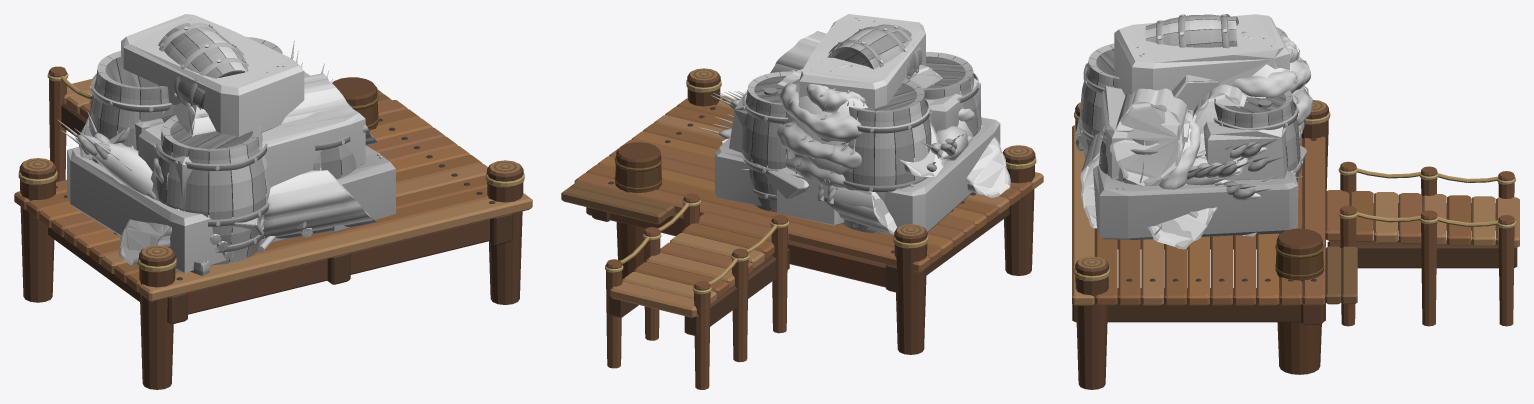
File: pier.fbx
3 renders of one model, left to right at view 1: azimuth 30°, elevation 25°; view 2: azimuth 150°, elevation 25°; view 3: azimuth 270°, elevation 25°, orthographic. The views are drawn at different scales.
Parts seen in each view (by area): view 1: PierDeck, Cargo_brick, Cargo_generic, Cargo_wood, Pick_wood, Pick_wheat, Cargo_wheat; view 2: PierDeck, Cargo_generic, Cargo_brick, Cargo_wool, Cargo_wood, Pick_wood, Pick_wool, Cargo_wheat, Cargo_ore, Pick_wheat; view 3: PierDeck, Cargo_brick, Cargo_generic, Cargo_wood, Cargo_wool, Pick_wood, Cargo_wheat, Cargo_ore, Pick_wool, Pick_wheat.
Part boxes in pixels (x1,y1,x2,y2): PierDeck: (14, 66, 532, 389); Cargo_brick: (67, 14, 395, 275); Cargo_generic: (89, 22, 358, 264); Cargo_wood: (79, 73, 377, 265); Pick_wood: (79, 77, 373, 265); Pick_wheat: (75, 136, 312, 259); Cargo_wheat: (57, 40, 332, 259); PierDeck: (561, 68, 1043, 389); Cargo_generic: (742, 24, 981, 233); Cargo_brick: (715, 14, 1000, 234); Cargo_wool: (777, 61, 974, 187); Cargo_wood: (770, 31, 1010, 234); Pick_wood: (770, 36, 1009, 232); Pick_wool: (782, 79, 973, 181); Cargo_wheat: (699, 88, 963, 171); Cargo_ore: (741, 153, 837, 198); Pick_wheat: (721, 126, 968, 164); PierDeck: (1072, 100, 1519, 389); Cargo_brick: (1075, 14, 1298, 239); Cargo_generic: (1078, 14, 1302, 191); Cargo_wood: (1080, 84, 1304, 249); Cargo_wool: (1157, 31, 1312, 189); Pick_wood: (1082, 86, 1247, 246); Cargo_wheat: (1187, 106, 1302, 200); Cargo_ore: (1075, 75, 1306, 217); Pick_wool: (1161, 40, 1307, 185); Pick_wheat: (1186, 147, 1266, 200).
Bounding box in the file's own units: 0.0248 × 0.0173 × 0.0272.
